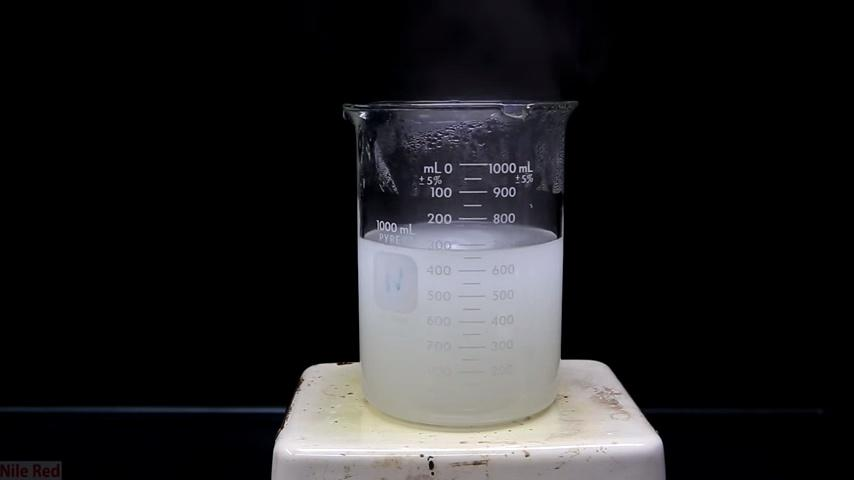Beaker: (330, 77, 570, 430)
